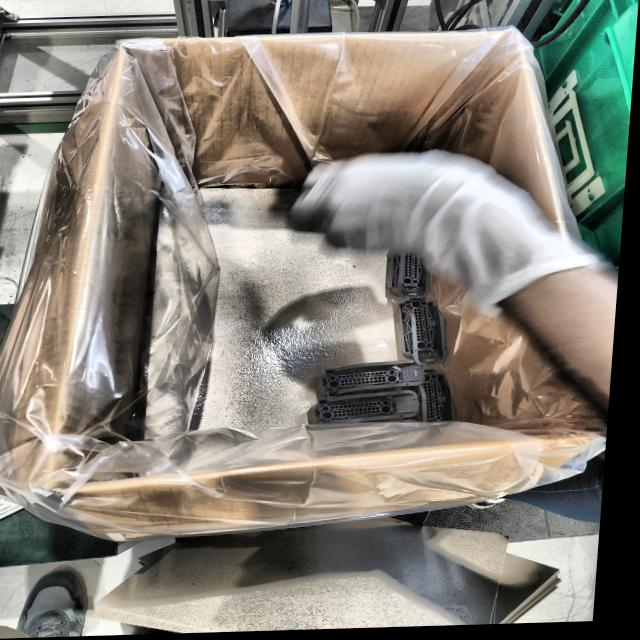P38: (322, 363, 430, 400), (314, 392, 430, 426), (399, 302, 454, 367), (390, 255, 436, 302), (428, 371, 461, 425)
